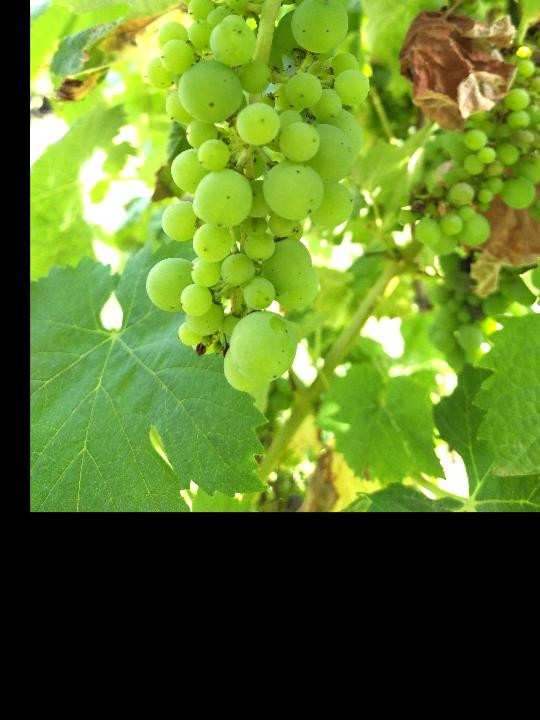grape: (140, 0, 373, 394)
